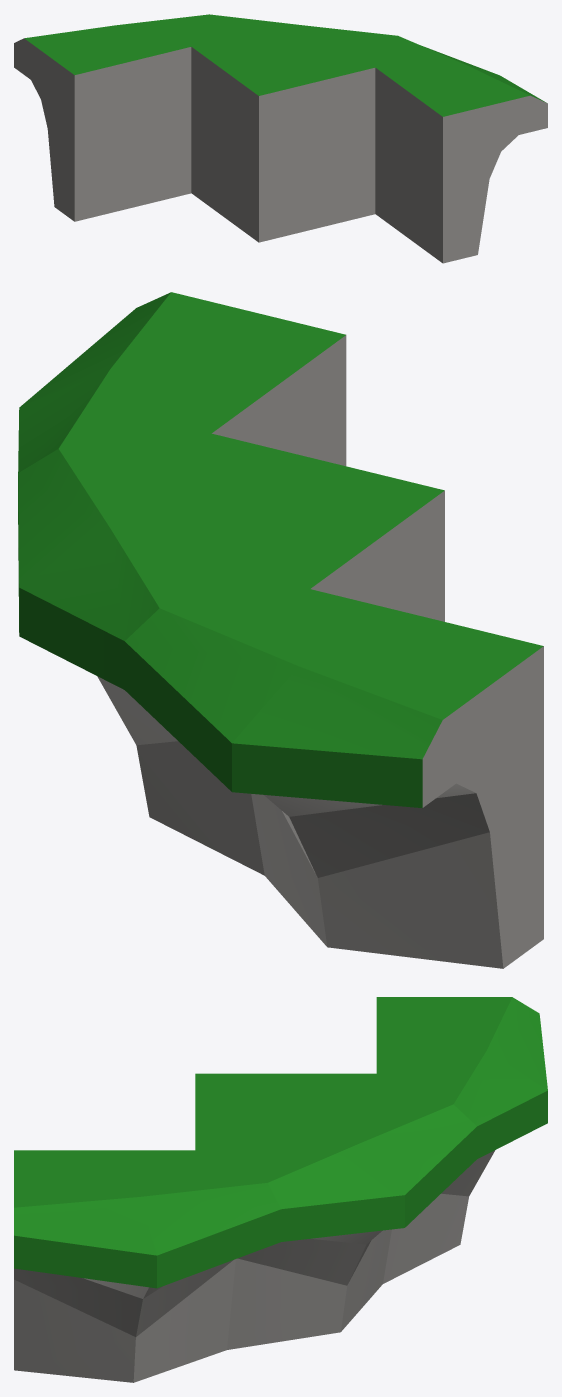
The model's file is Cliff_Top_Corner_Outer_Lg.obj.
3 renders of one model, top to bottom at view 1: azimuth 30°, elevation 25°; view 2: azimuth 150°, elevation 25°; view 3: azimuth 270°, elevation 25°, orthographic. The views are drawn at different scales.
Visible parts, largest first — view 1: object1; view 2: object1; view 3: object1.
Boxes of the visible parts, bbox=[...] form: object1: bbox=[14, 14, 547, 263]; object1: bbox=[18, 292, 543, 968]; object1: bbox=[14, 997, 547, 1382].
Bounding box in the file's own units: 2.95 × 1.2 × 2.95.
